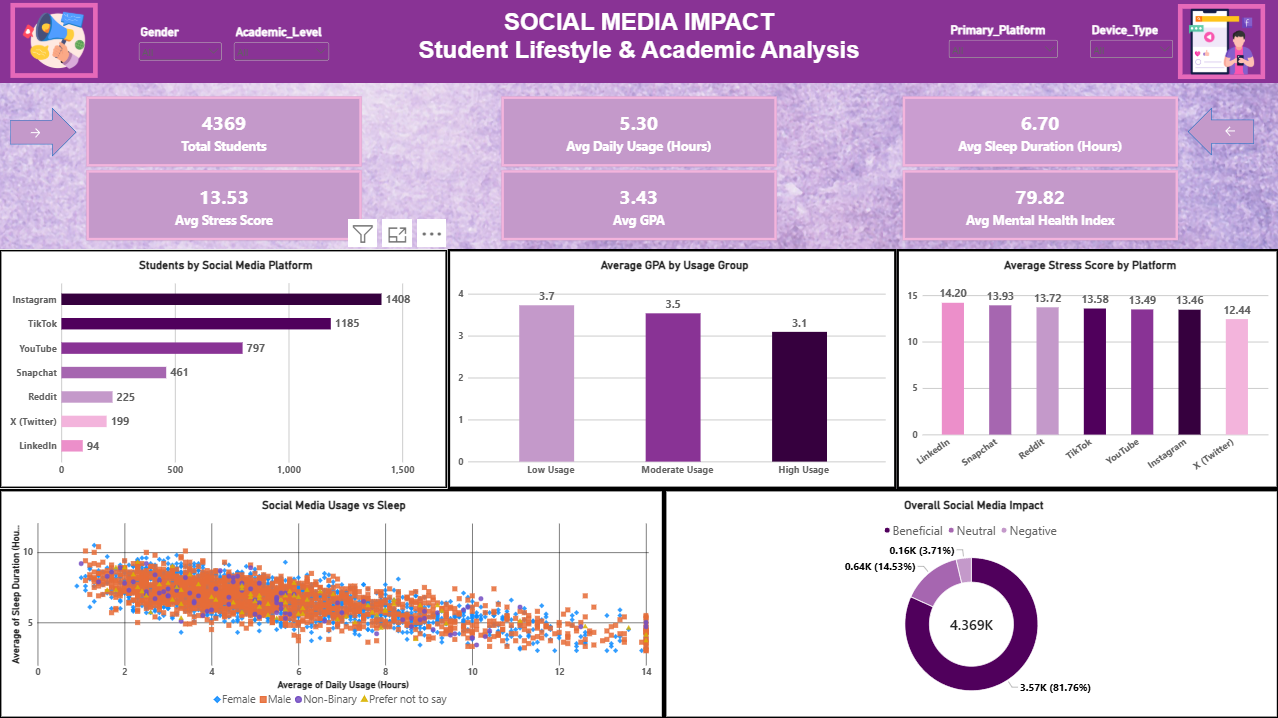

What the dashboard file says about the page in this screenshot:
{"tool":"powerbi","page":{"name":"Dashboard","canvas":[2560,1440],"ordinal":1},"visuals":[{"type":"shape","box":[0,0,2560,168],"z":0},{"type":"textbox","box":[0,0,2560,167.5],"z":1000},{"type":"card","fields":{"Values":["Social_media_impact_on_life.Total Students"]},"box":[175,195,550,140],"z":2000},{"type":"card","fields":{"Values":["Social_media_impact_on_life.Avg Daily Usage"]},"box":[1005,195,550,140],"z":3000},{"type":"card","fields":{"Values":["Social_media_impact_on_life.Avg Sleep Duration"]},"box":[1807.5,195,550,140],"z":4000},{"type":"card","fields":{"Values":["Social_media_impact_on_life.Avg Stress Score"]},"box":[175,342.5,550,140],"z":5000},{"type":"card","fields":{"Values":["Social_media_impact_on_life.Avg GPA"]},"box":[1005,342.5,550,140],"z":6000},{"type":"card","fields":{"Values":["Social_media_impact_on_life.Avg Mental Health Index"]},"box":[1807.5,342.5,550,140],"z":7000},{"type":"clusteredBarChart","title":"Students by Social Media Platform","fields":{"Category":["Social_media_impact_on_life.Primary_Platform"],"Y":["CountNonNull(Social_media_impact_on_life.Student_ID)"]},"box":[0,500,897.5,480],"z":8000},{"type":"scatterChart","title":"Social Media Usage vs Sleep","fields":{"Category":["Social_media_impact_on_life.Student_ID"],"Series":["Social_media_impact_on_life.Gender"],"X":["Avg(Social_media_impact_on_life.Daily Usage (Hours))"],"Y":["Avg(Social_media_impact_on_life.Sleep Duration (Hours))"]},"box":[0,980,1330,460],"z":9000},{"type":"clusteredColumnChart","title":"Average Stress Score by Platform","fields":{"Category":["Social_media_impact_on_life.Primary_Platform"],"Y":["Avg(Social_media_impact_on_life.Perceived Stress Score)"]},"box":[1795,500,765,480],"z":10000},{"type":"clusteredColumnChart","title":"Average GPA by Usage Group","fields":{"Category":["Social_media_impact_on_life.Usage Group"],"Y":["Avg(Social_media_impact_on_life.Academic GPA)"]},"box":[897.5,500,897.5,480],"z":11000},{"type":"donutChart","title":"Overall Social Media Impact","fields":{"Category":["Social_media_impact_on_life.Overall Social Media Impact"],"Y":["CountNonNull(Social_media_impact_on_life.Student_ID)"]},"box":[1330,980,1230,460],"z":12000},{"type":"slicer","fields":{"Values":["Social_media_impact_on_life.Gender"]},"box":[275,52.5,175,82.5],"z":13000},{"type":"slicer","fields":{"Values":["Social_media_impact_on_life.Academic_Level"]},"box":[465,52.5,200,82.5],"z":14000},{"type":"slicer","fields":{"Values":["Social_media_impact_on_life.Primary_Platform"]},"box":[1895,47.5,227.5,70],"z":15000},{"type":"slicer","fields":{"Values":["Social_media_impact_on_life.Device_Type"]},"box":[2177.5,47.5,175,70],"z":16000},{"type":"image","box":[22.5,7.5,175,150],"z":17000},{"type":"image","box":[2357.5,10,175,150],"z":18000},{"type":"shape","box":[23.3,216.3,132.6,97.7],"z":19000},{"type":"shape","box":[2376.8,216.3,132.6,95.3],"z":20000},{"type":"actionButton","box":[23.3,246.5,100,40],"z":21000},{"type":"actionButton","box":[2418.6,241.9,90.7,44.2],"z":22000}]}

Visuals, with their boxes in screenshot pixels (x1, y1, x2, y2), scaled from the page's 2560x1440 canvas onto the 1278x718 screenshot:
shape: bbox(0, 0, 1277, 84)
textbox: bbox(0, 0, 1277, 84)
card - Social_media_impact_on_life.Total Students: bbox(87, 97, 362, 167)
card - Social_media_impact_on_life.Avg Daily Usage: bbox(502, 97, 776, 167)
card - Social_media_impact_on_life.Avg Sleep Duration: bbox(902, 97, 1177, 167)
card - Social_media_impact_on_life.Avg Stress Score: bbox(87, 171, 362, 241)
card - Social_media_impact_on_life.Avg GPA: bbox(502, 171, 776, 241)
card - Social_media_impact_on_life.Avg Mental Health Index: bbox(902, 171, 1177, 241)
"Students by Social Media Platform" clusteredBarChart: bbox(0, 249, 448, 489)
"Social Media Usage vs Sleep" scatterChart: bbox(0, 489, 664, 717)
"Average Stress Score by Platform" clusteredColumnChart: bbox(896, 249, 1277, 489)
"Average GPA by Usage Group" clusteredColumnChart: bbox(448, 249, 896, 489)
"Overall Social Media Impact" donutChart: bbox(664, 489, 1277, 717)
slicer - Social_media_impact_on_life.Gender: bbox(137, 26, 225, 67)
slicer - Social_media_impact_on_life.Academic_Level: bbox(232, 26, 332, 67)
slicer - Social_media_impact_on_life.Primary_Platform: bbox(946, 24, 1060, 59)
slicer - Social_media_impact_on_life.Device_Type: bbox(1087, 24, 1174, 59)
image: bbox(11, 4, 99, 79)
image: bbox(1177, 5, 1264, 80)
shape: bbox(12, 108, 78, 157)
shape: bbox(1187, 108, 1253, 155)
actionButton: bbox(12, 123, 62, 143)
actionButton: bbox(1207, 121, 1253, 143)
